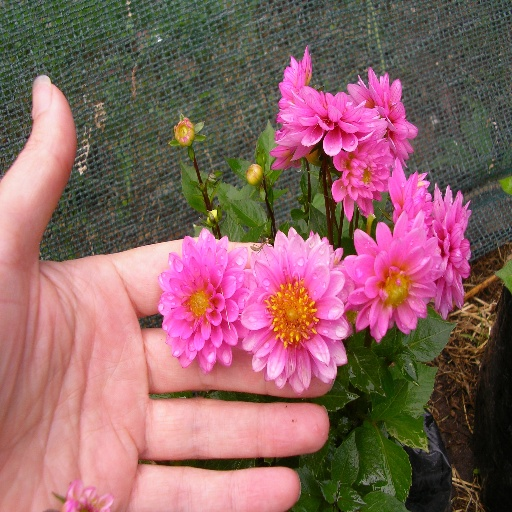hand: (0, 70, 335, 511)
